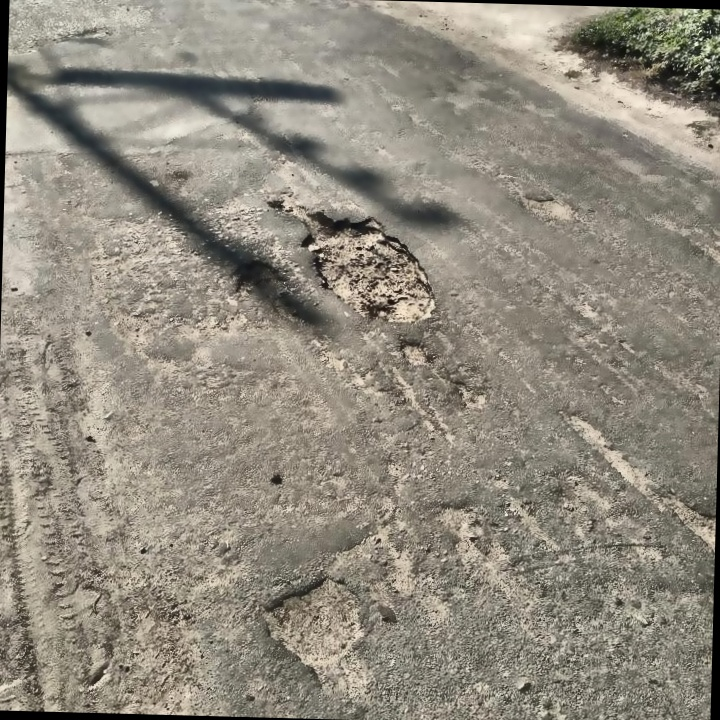pothole: (270, 195, 445, 327), (256, 569, 377, 694), (232, 257, 307, 326), (666, 488, 716, 553), (516, 190, 576, 224)
